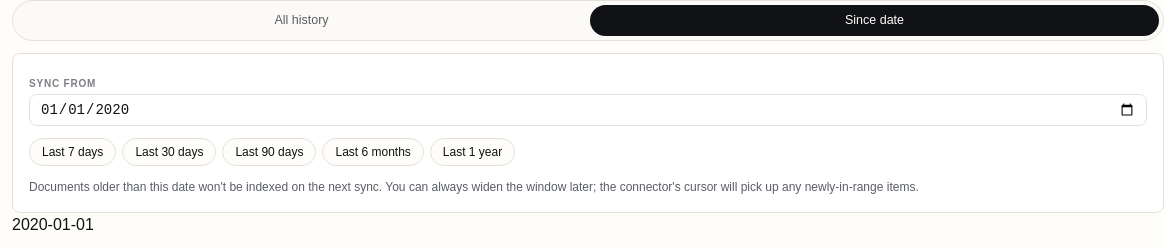
Scenario: SyncWindowField › preset buttons overwrite the date
Expected: the date field labelled "Sync from" holds "2020-01-01", [29,94,1147,126]
Click the button "Last 7 days" at (73, 152), box [29,138,116,166]
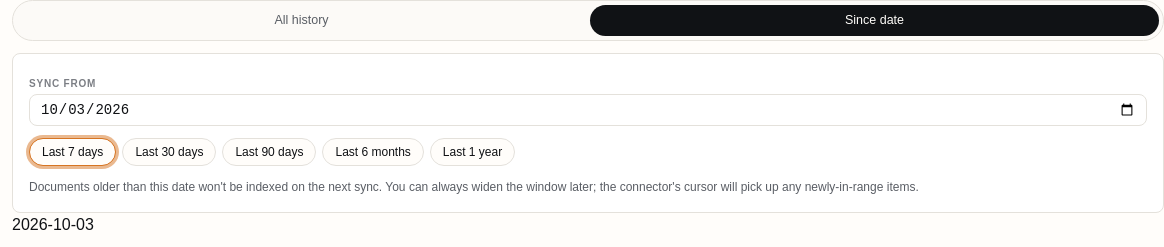
Expected: the date field labelled "Sync from" does not hold "2020-01-01", [29,94,1147,126]
